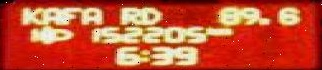-: (257, 16, 272, 25)
0: (162, 25, 183, 42)
1: (86, 25, 99, 42), (25, 26, 35, 45)
2: (117, 25, 140, 42), (142, 24, 160, 43)
3: (150, 45, 173, 65)
5: (185, 24, 203, 43), (99, 24, 117, 43)
6: (109, 43, 139, 66), (274, 4, 299, 25)
8: (216, 6, 239, 25)
9: (173, 44, 196, 65), (239, 5, 257, 24)
X: (79, 5, 102, 24), (58, 5, 79, 25), (17, 5, 38, 24), (139, 5, 160, 24), (119, 5, 139, 24), (40, 5, 58, 24), (137, 47, 147, 62)
